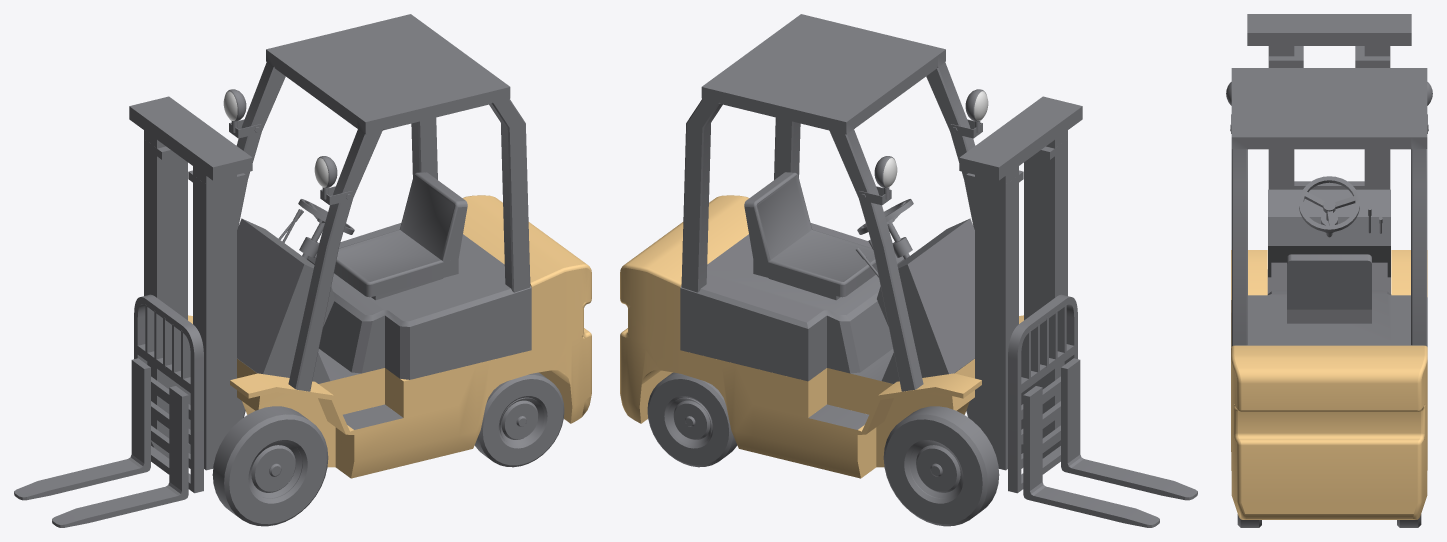
Rendered from forklift.glb.
The picture shows the model from 3 angles, left to right: view 1: azimuth 30°, elevation 25°; view 2: azimuth 150°, elevation 25°; view 3: azimuth 270°, elevation 25°; orthographic projection.
Parts seen in each view (by area): view 1: Roof, Cube_3_2, Cube_3, Cube_12_2_2, Panel, Tube, Cube_13_2, Cube_4, Cube_12, Tube_2, Cube_6, Sweep (+3 smaller); view 2: Roof, Cube_3_2, Cube_3, Cube_12_2_2, Panel, Tube, Cube_13_2, Cube_4, Cube_12, Tube_2, Cube_6, Sweep (+3 smaller); view 3: Cube_3_2, Roof, Panel, Cube_3, Cube_12, Cube_6, Cube_12_2_2, Tube_3, Cube_4, Cube_13_3, Sweep, Tube_2.
Boxes of the visible parts, x1=… form: Roof: x1=236, y1=14, x2=530, y2=391; Cube_3_2: x1=188, y1=195, x2=591, y2=478; Cube_3: x1=307, y1=223, x2=531, y2=379; Cube_12_2_2: x1=144, y1=130, x2=236, y2=470; Panel: x1=237, y1=218, x2=334, y2=383; Tube: x1=151, y1=397, x2=328, y2=526; Cube_13_2: x1=14, y1=358, x2=188, y2=527; Cube_4: x1=334, y1=229, x2=458, y2=297; Cube_12: x1=129, y1=96, x2=252, y2=180; Tube_2: x1=474, y1=372, x2=564, y2=467; Cube_6: x1=399, y1=172, x2=467, y2=261; Sweep: x1=134, y1=294, x2=203, y2=493; Roof: x1=681, y1=14, x2=975, y2=391; Cube_3_2: x1=620, y1=195, x2=1023, y2=478; Cube_3: x1=680, y1=223, x2=904, y2=381; Cube_12_2_2: x1=975, y1=130, x2=1067, y2=470; Panel: x1=877, y1=218, x2=974, y2=383; Tube: x1=883, y1=397, x2=1060, y2=526; Cube_13_2: x1=1023, y1=358, x2=1197, y2=527; Cube_4: x1=753, y1=229, x2=877, y2=297; Cube_12: x1=959, y1=96, x2=1082, y2=180; Tube_2: x1=647, y1=372, x2=737, y2=467; Cube_6: x1=744, y1=172, x2=812, y2=269; Sweep: x1=1008, y1=294, x2=1077, y2=493; Cube_3_2: x1=1231, y1=250, x2=1427, y2=519; Roof: x1=1231, y1=68, x2=1427, y2=346; Panel: x1=1268, y1=189, x2=1390, y2=293; Cube_3: x1=1231, y1=290, x2=1427, y2=346; Cube_12: x1=1247, y1=14, x2=1411, y2=45; Cube_6: x1=1287, y1=254, x2=1371, y2=309; Cube_12_2_2: x1=1268, y1=46, x2=1390, y2=189; Tube_3: x1=1299, y1=176, x2=1359, y2=231; Cube_4: x1=1287, y1=309, x2=1371, y2=323; Cube_13_3: x1=1269, y1=46, x2=1389, y2=67; Sweep: x1=1294, y1=181, x2=1364, y2=189; Tube_2: x1=1237, y1=514, x2=1421, y2=527.
Size of the model in its own units: 7.05 by 5.09 by 2.52.
